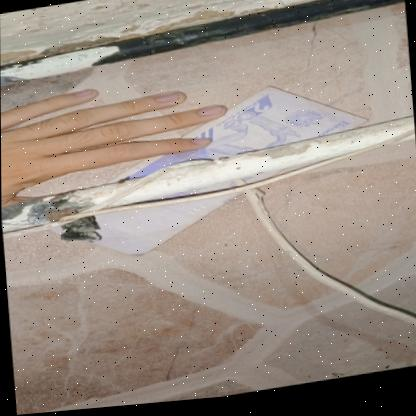ten-back-vef: (36, 76, 375, 273)
